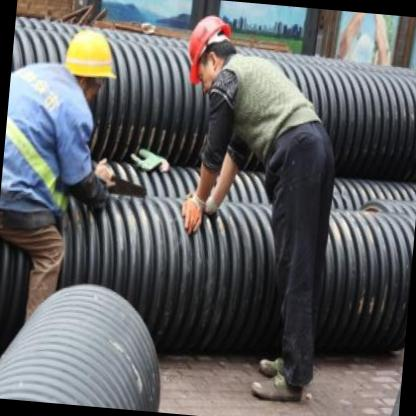bee: (53, 23, 124, 115), (180, 10, 246, 93)
